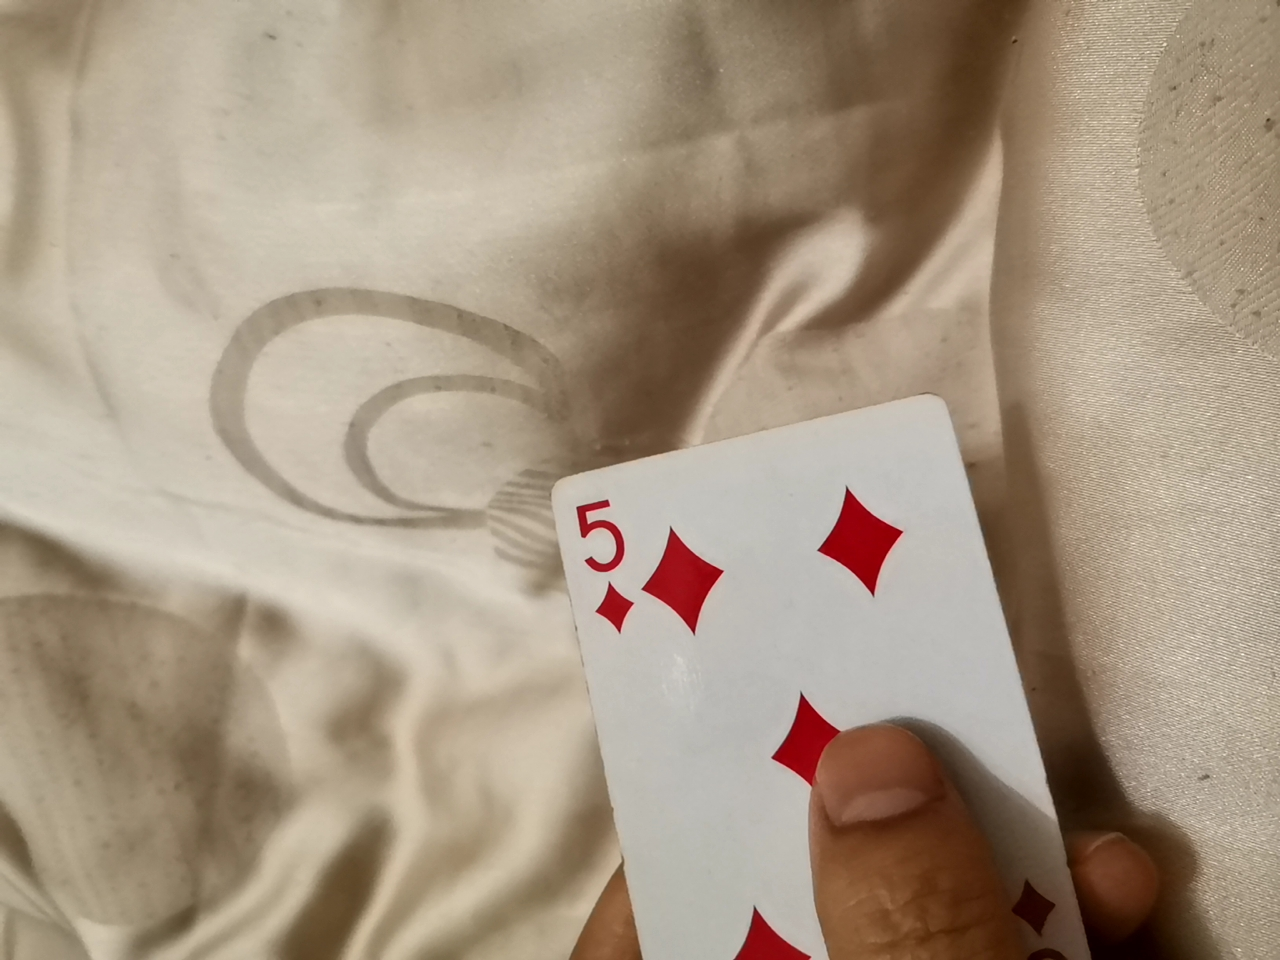fk 5: (535, 375, 1055, 952)
